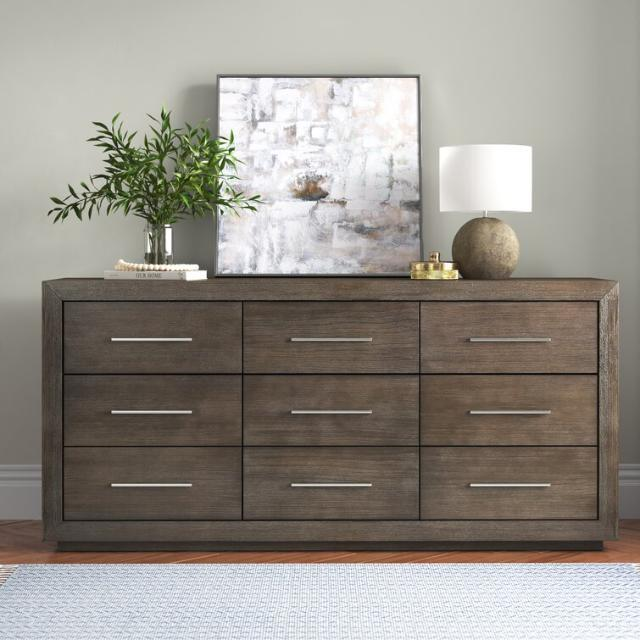dresser: (39, 275, 626, 558)
